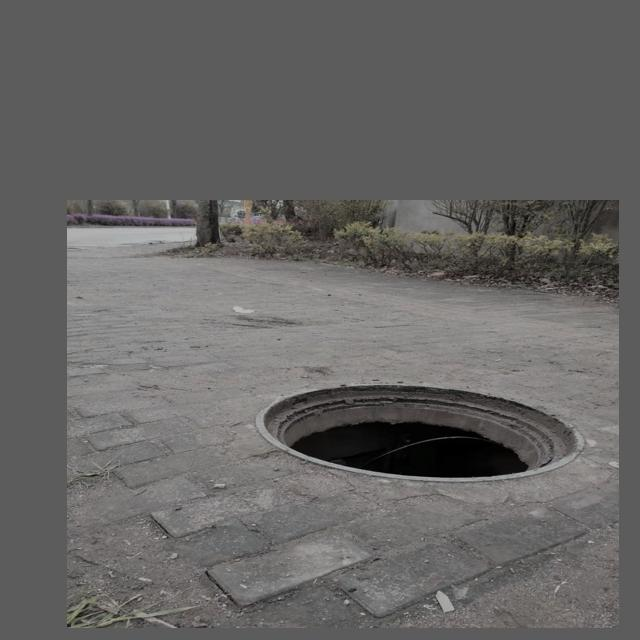lose: (254, 381, 583, 480)
